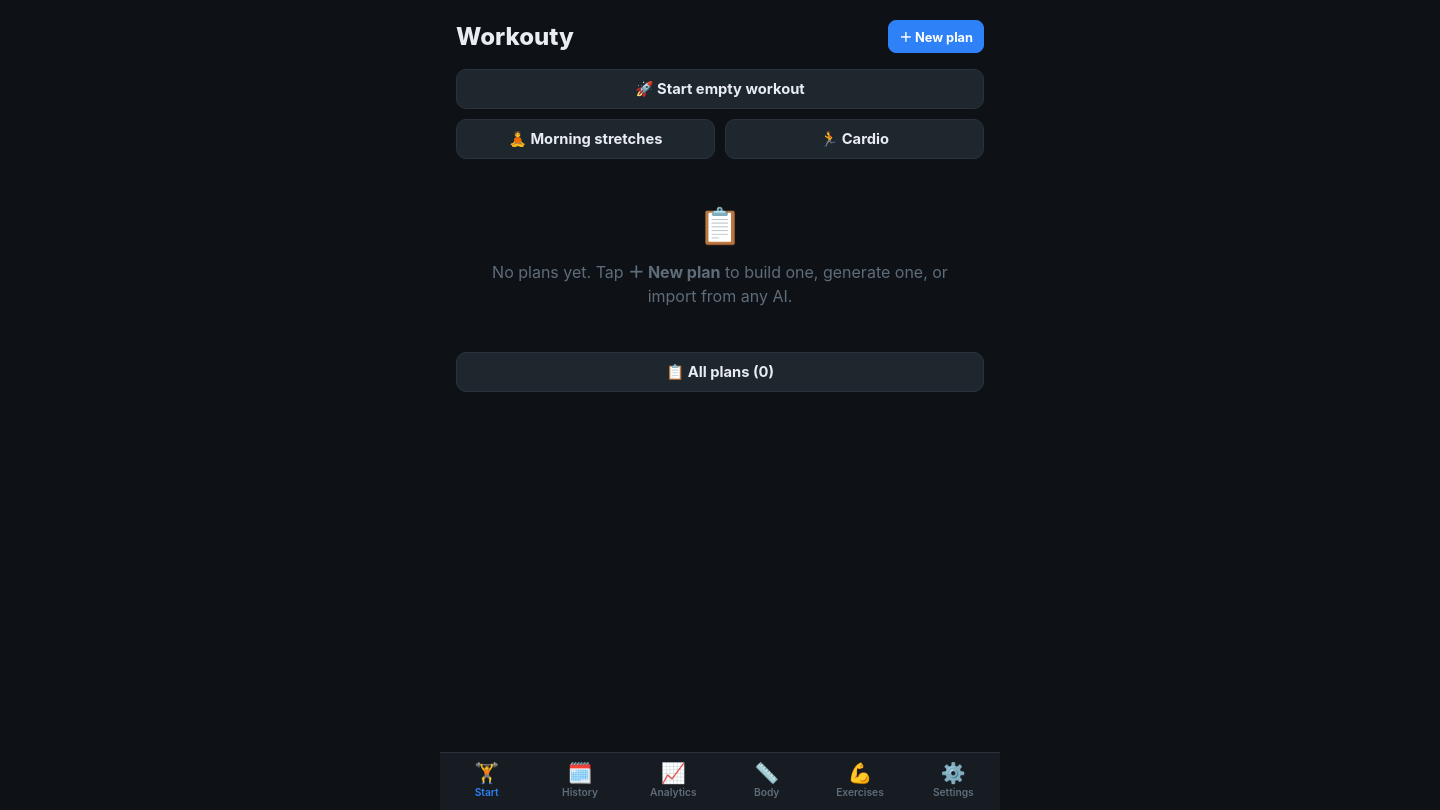
Test: app UI › exports the exercise list with target muscles
Click the text "Exercises": [860, 792] box [836,786,884,798]
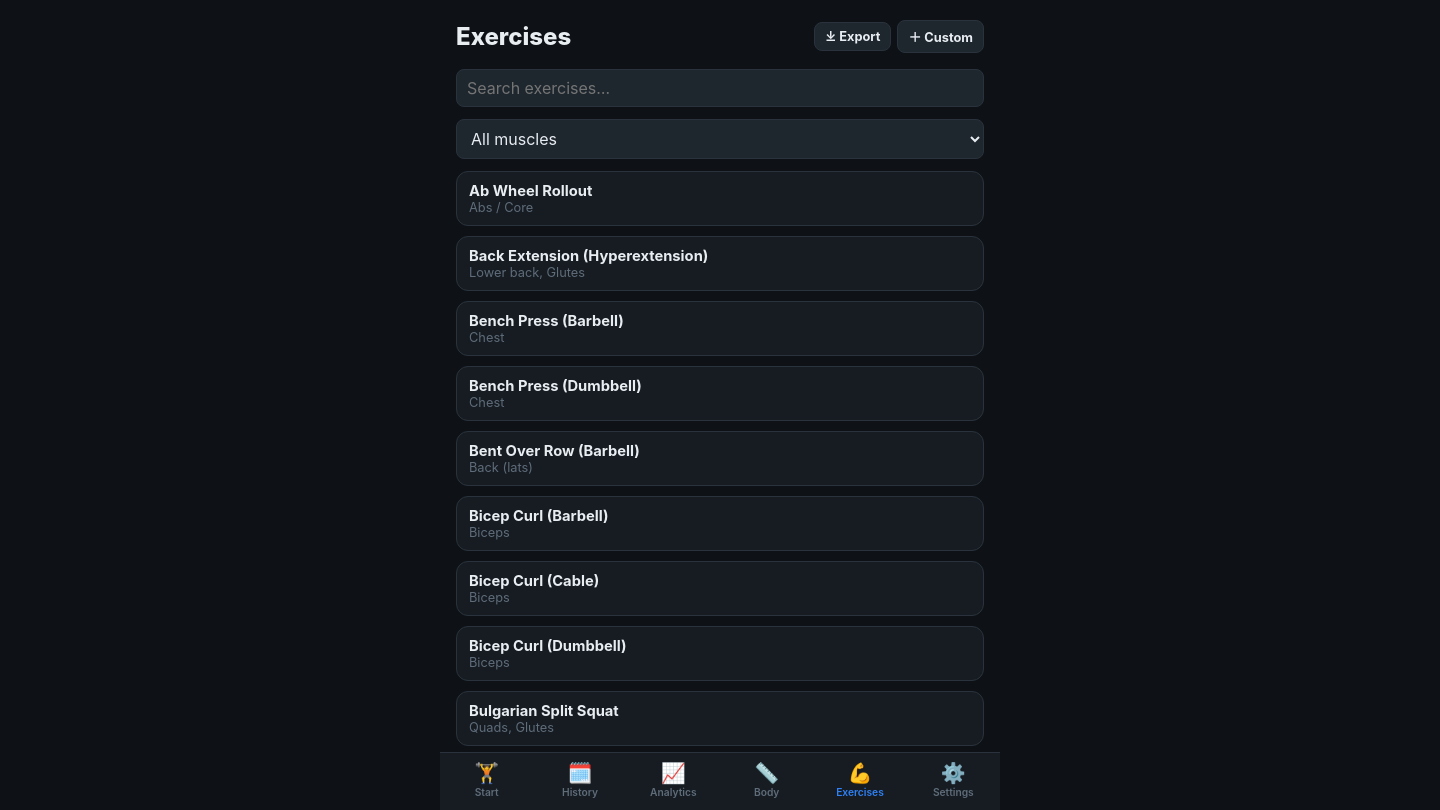
Click the button "⤓ Export": [853, 36] box [814,22,892,51]
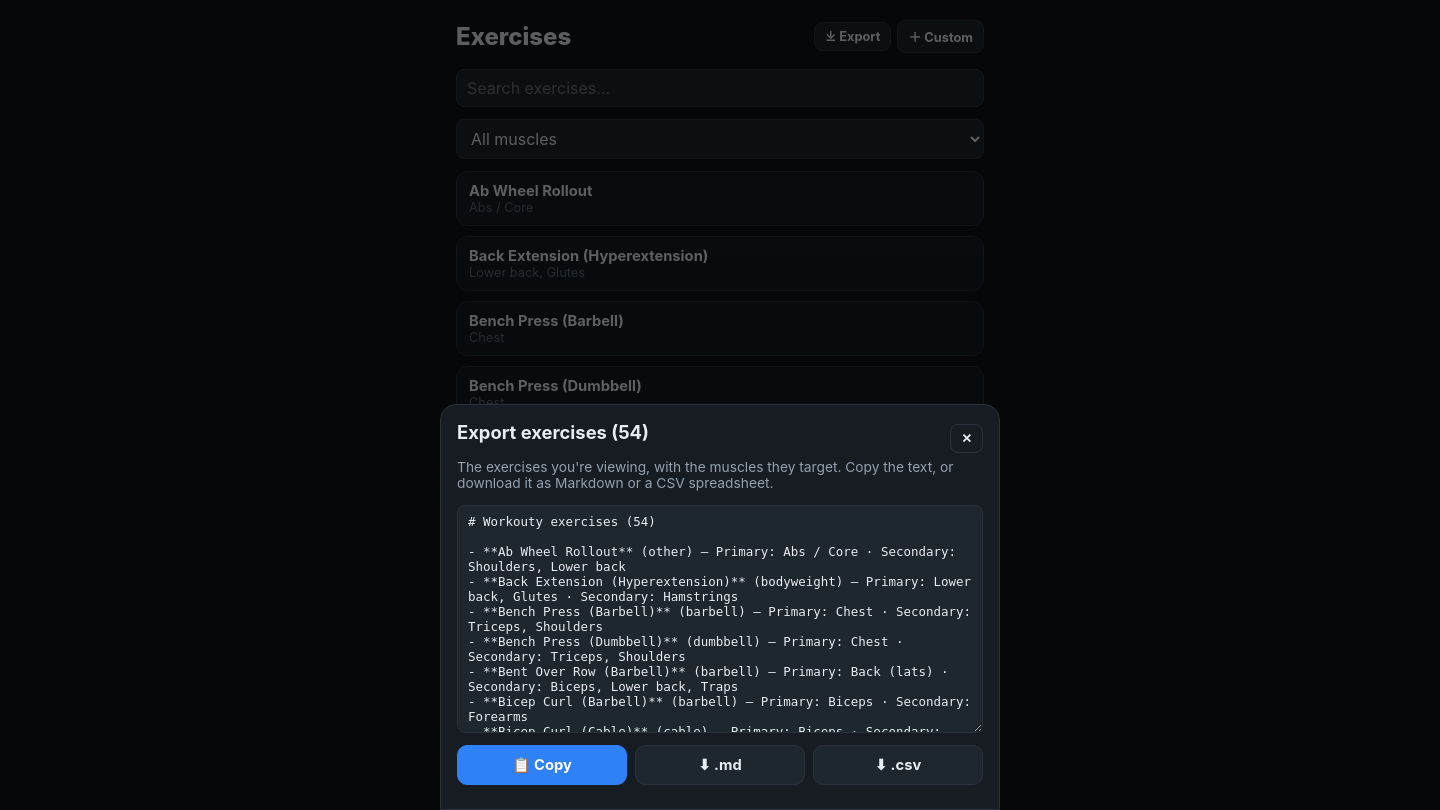
Check: the heading "Export exercises (54)" is shown, box [457,421,649,443]
Check: the text box is shown, box [457,505,983,733]
